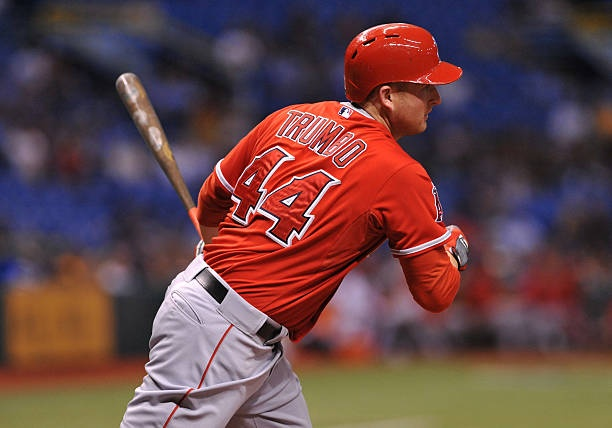bita: (112, 72, 216, 245)
